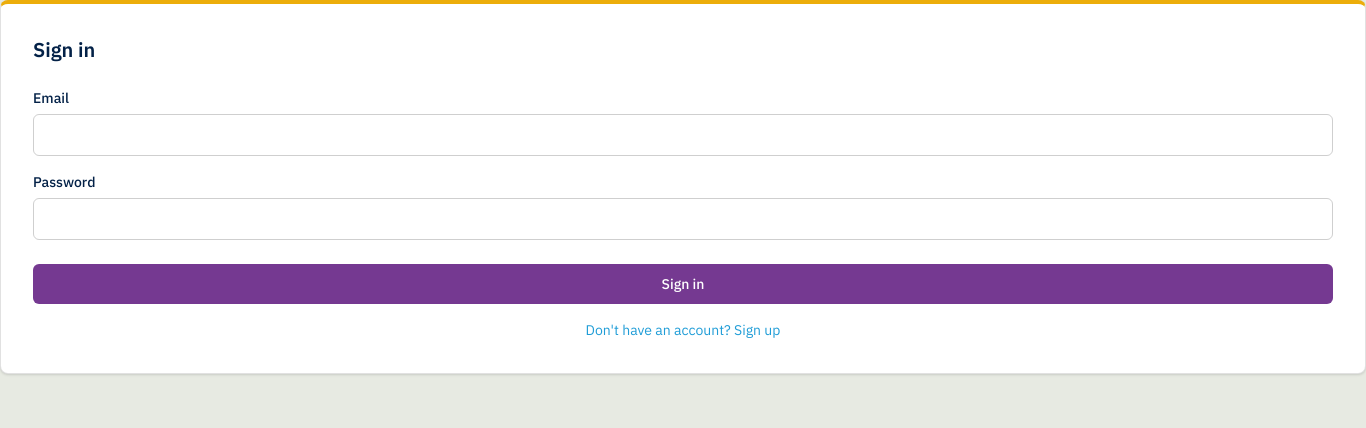
Scenario: LoginForm › explains a 401 as incorrect credentials
This screenshot has width=1366, height=428.
Type "jane@example.com" into the field labelled "Email". click: {"x": 683, "y": 135}
box: [33, 114, 1333, 156]
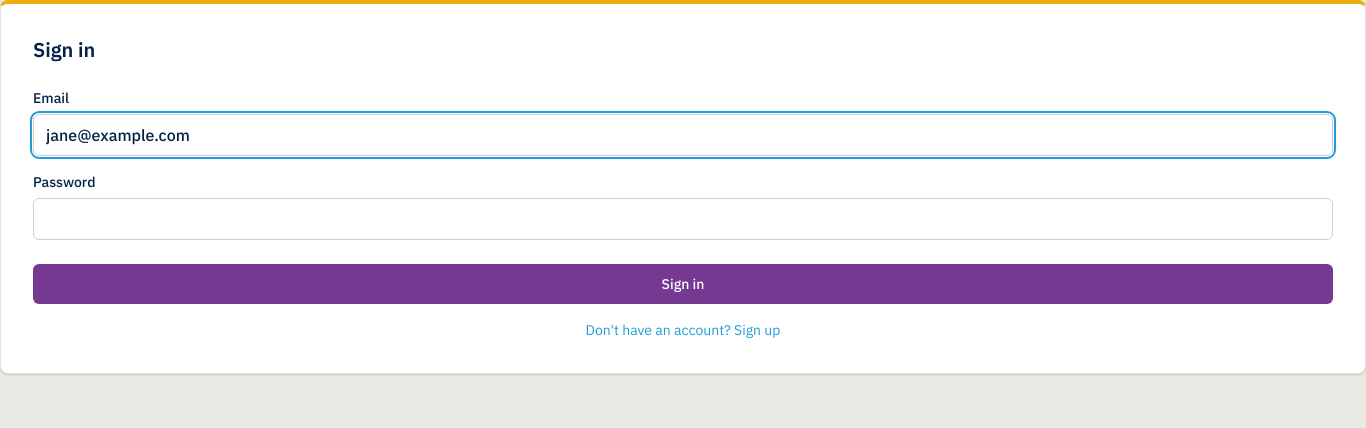
Type "password123" into the password field labelled "Password". click: {"x": 683, "y": 219}
box: [33, 198, 1333, 240]
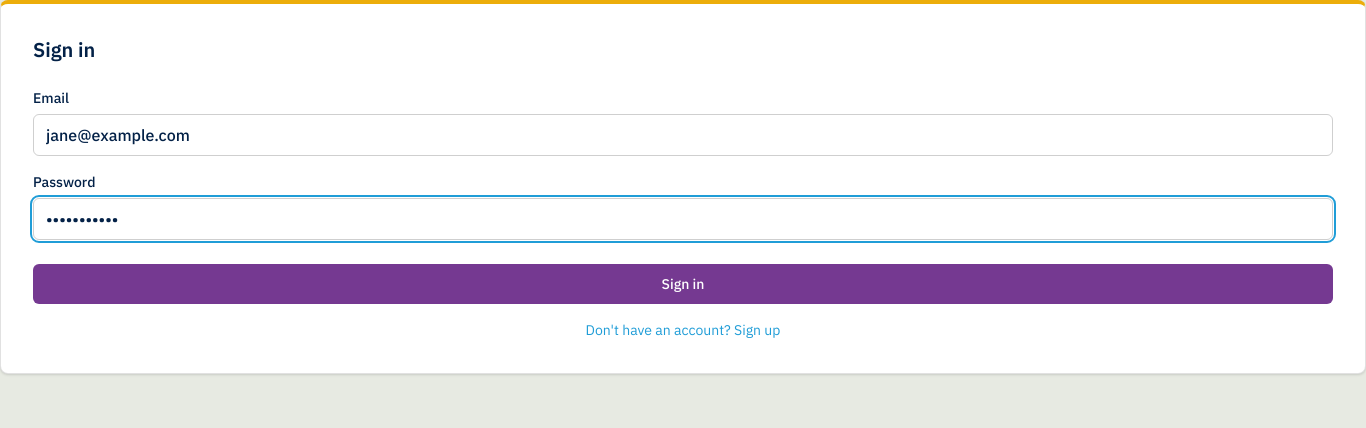
Click the button "Sign in". click: {"x": 683, "y": 284}
box: [33, 264, 1333, 304]
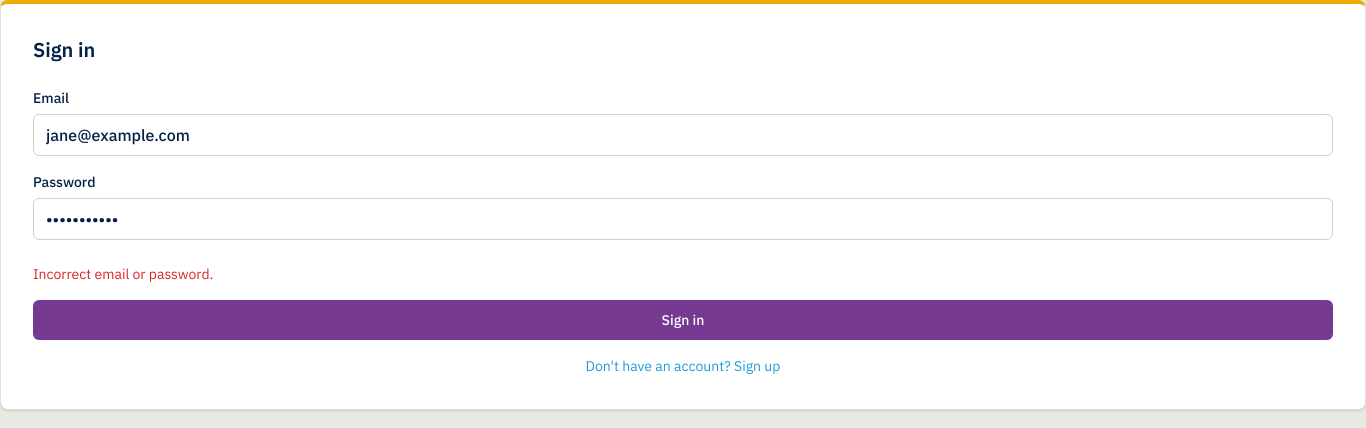
Check: the message shows "Incorrect email or password", box [33, 265, 213, 283]
